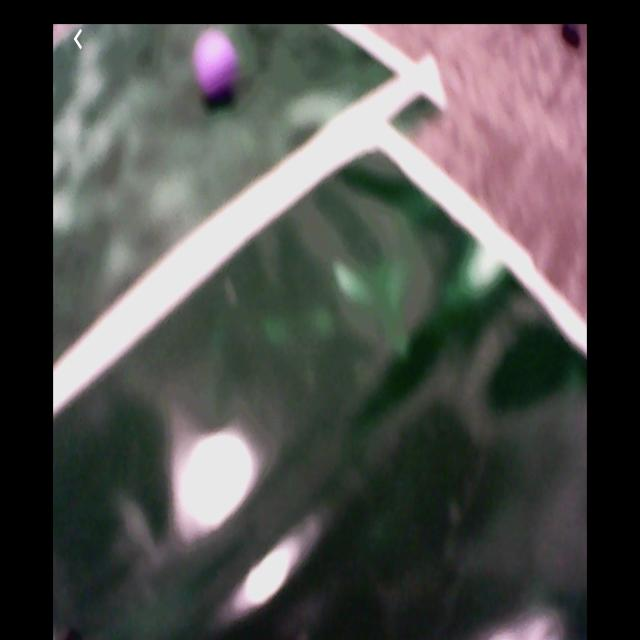ball: (192, 28, 240, 105)
